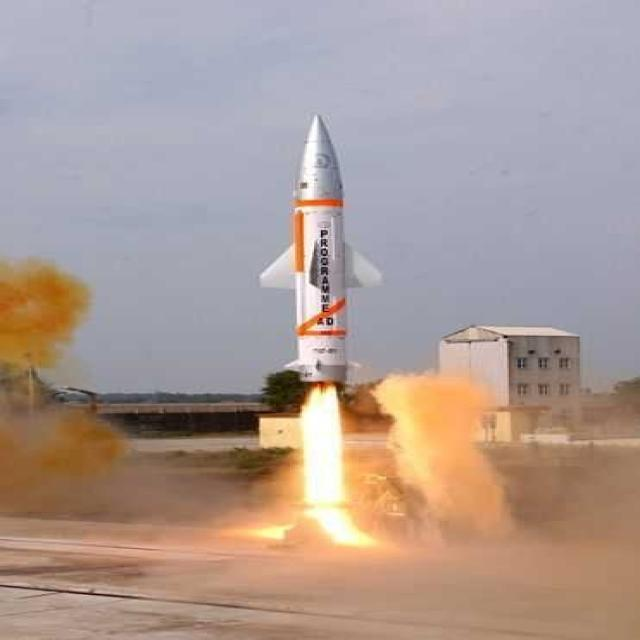missile: (254, 116, 370, 390)
